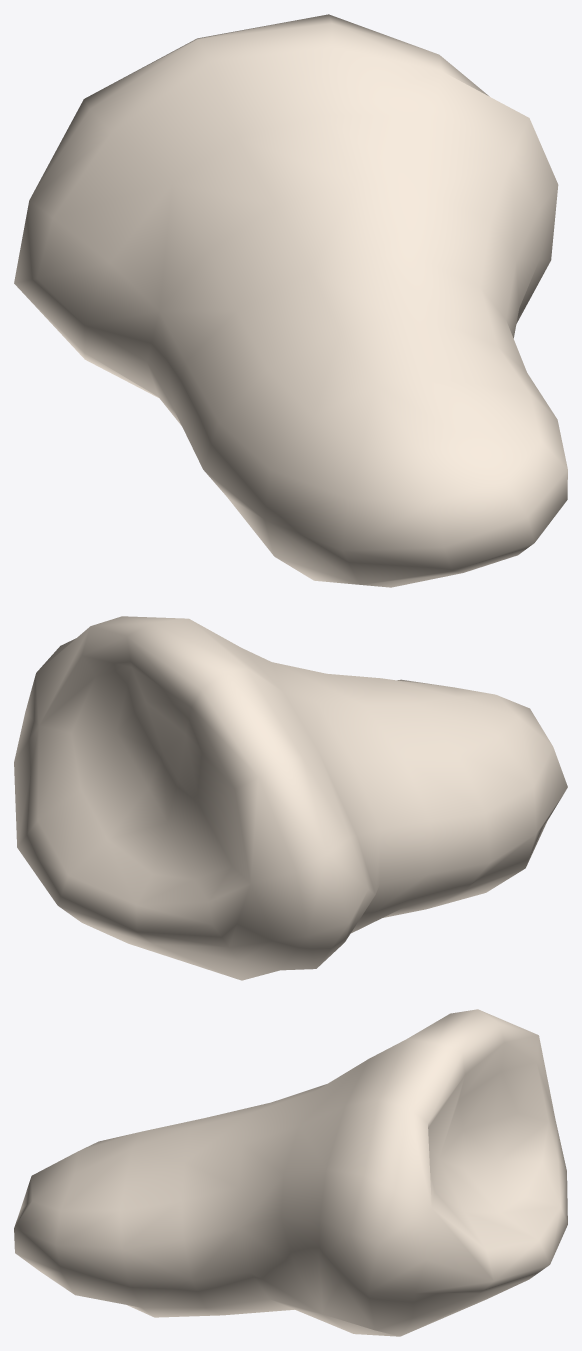
Rendered from right_toe_4_distal.glb.
The picture shows the model from 3 angles, top to bottom: view 1: azimuth 30°, elevation 25°; view 2: azimuth 150°, elevation 25°; view 3: azimuth 270°, elevation 25°; orthographic projection. The views are drawn at different scales.
Visible parts, largest first — view 1: Distal phalanx of fourth finger of foot.r; view 2: Distal phalanx of fourth finger of foot.r; view 3: Distal phalanx of fourth finger of foot.r.
Part boxes in pixels (x1=…): Distal phalanx of fourth finger of foot.r: x1=14, y1=14, x2=567, y2=587; Distal phalanx of fourth finger of foot.r: x1=14, y1=616, x2=567, y2=980; Distal phalanx of fourth finger of foot.r: x1=14, y1=1009, x2=567, y2=1336.
Size of the model in its own units: 0.00514 by 0.00426 by 0.00709.
